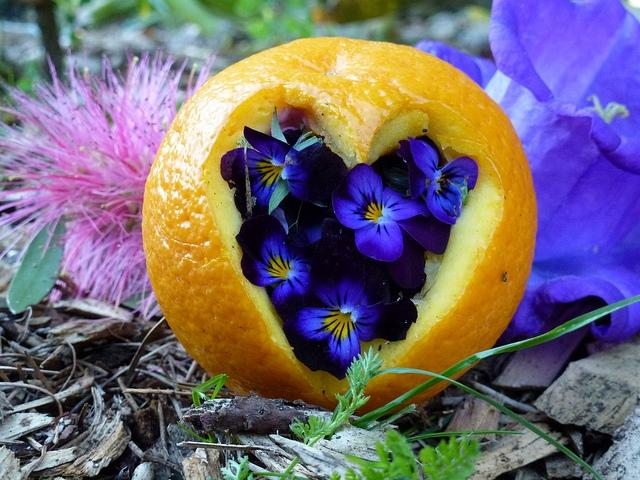orange: (140, 36, 538, 412)
